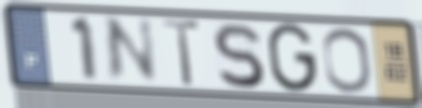1: (67, 14, 104, 83)
G: (266, 20, 320, 95)
N: (102, 15, 161, 86)
O: (320, 25, 375, 95)
S: (210, 20, 268, 90)
T: (160, 16, 203, 89)
